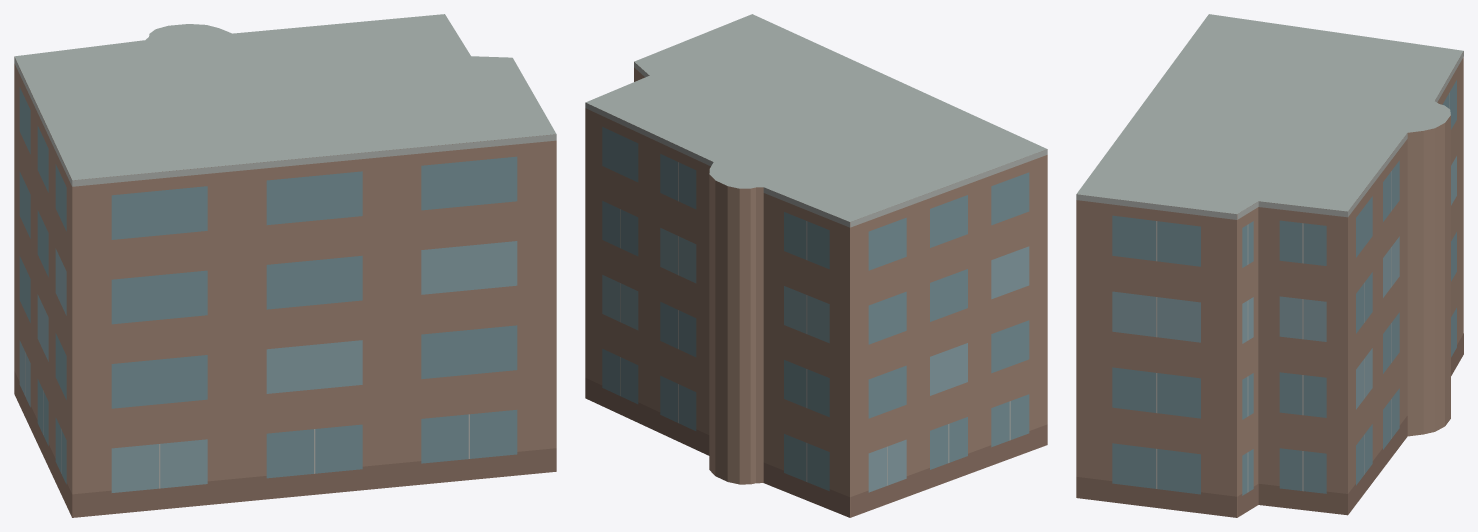
Rendered from survey-upis-32871846.glb.
The picture shows the model from 3 angles, left to right: view 1: azimuth 30°, elevation 25°; view 2: azimuth 150°, elevation 25°; view 3: azimuth 270°, elevation 25°; orthographic projection. The views are drawn at different scales.
Visible parts, largest first — view 1: survey-upis-32871846.tmp; view 2: survey-upis-32871846.tmp; view 3: survey-upis-32871846.tmp.
Part boxes in pixels (x1=…): survey-upis-32871846.tmp: x1=14, y1=14, x2=556, y2=517; survey-upis-32871846.tmp: x1=585, y1=14, x2=1047, y2=517; survey-upis-32871846.tmp: x1=1076, y1=14, x2=1463, y2=517.
Bounding box in the file's own units: 18.11 × 12.8 × 14.81.
